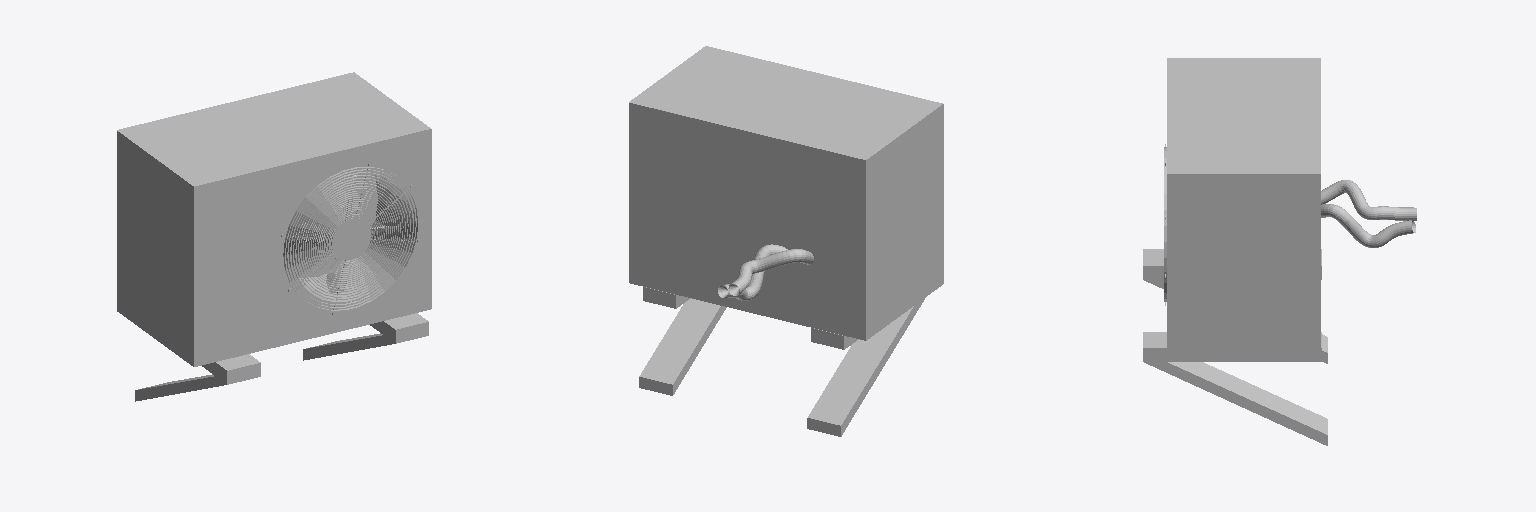
File: ACUnit.obj
The picture shows the model from 3 angles: view 1: azimuth 30°, elevation 25°; view 2: azimuth 150°, elevation 25°; view 3: azimuth 270°, elevation 25°; orthographic projection.
Visible parts, largest first — view 1: Box, Fan, Stands, FanBlades; view 2: Box, Stands, Tube1, Tube2; view 3: Box, Stands, Tube1, Tube2.
Part boxes in pixels (x1,y1,x2,y2): Box: (117,72,431,366); Fan: (283,167,418,311); Stands: (135,313,428,401); FanBlades: (294,175,401,292); Box: (629,46,943,340); Stands: (639,287,924,436); Tube1: (728,249,813,295); Tube2: (718,244,787,300); Box: (1167,58,1320,354); Stands: (1143,249,1327,445); Tube1: (1321,180,1416,220); Tube2: (1321,204,1415,247).
Bounding box in the file's own units: 3.53 × 3.97 × 3.53.